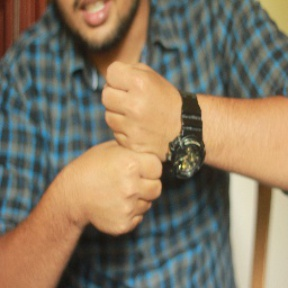G: (71, 52, 181, 240)
